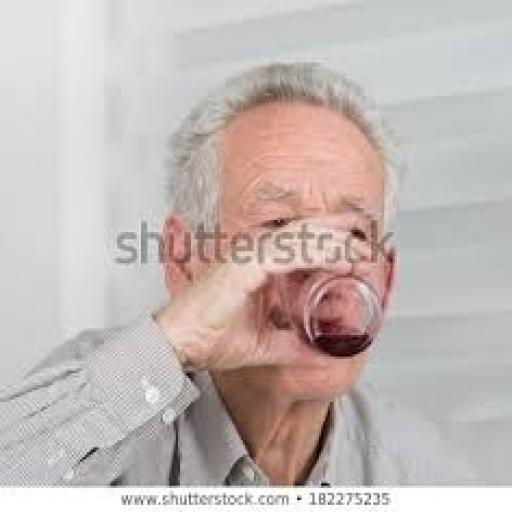drinking: (189, 66, 422, 406)
